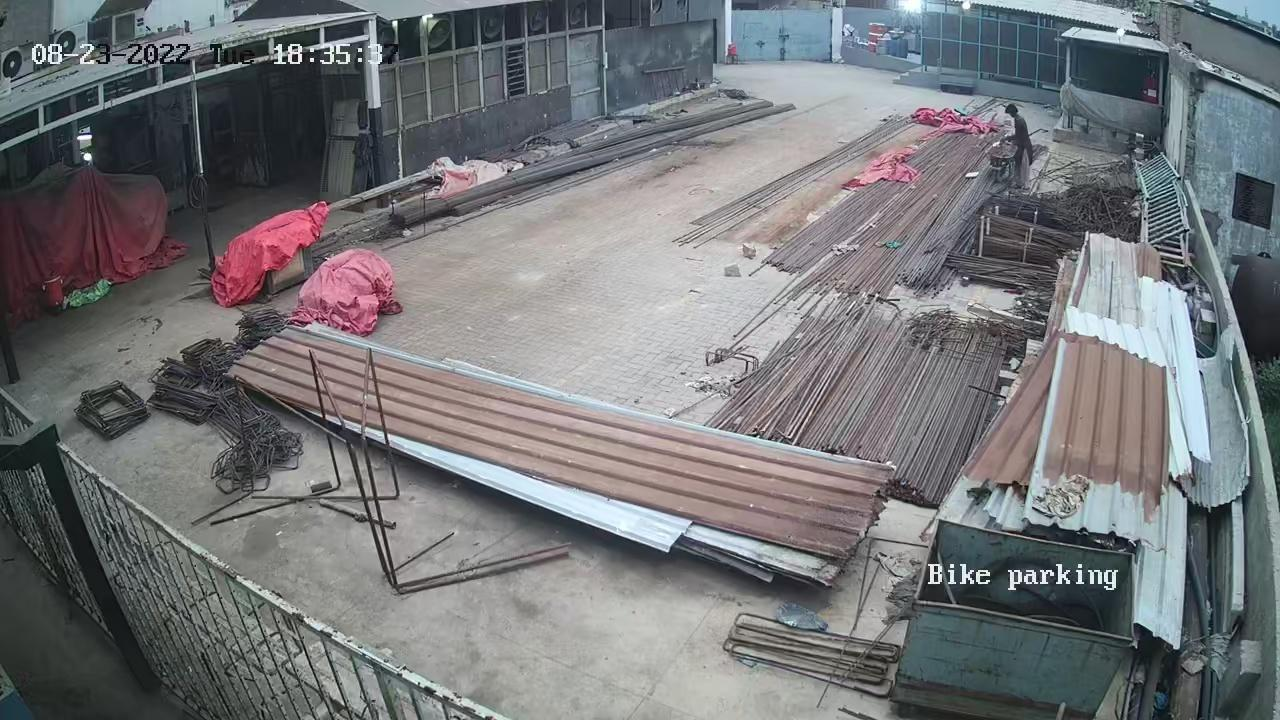person: (1002, 103, 1034, 184)
